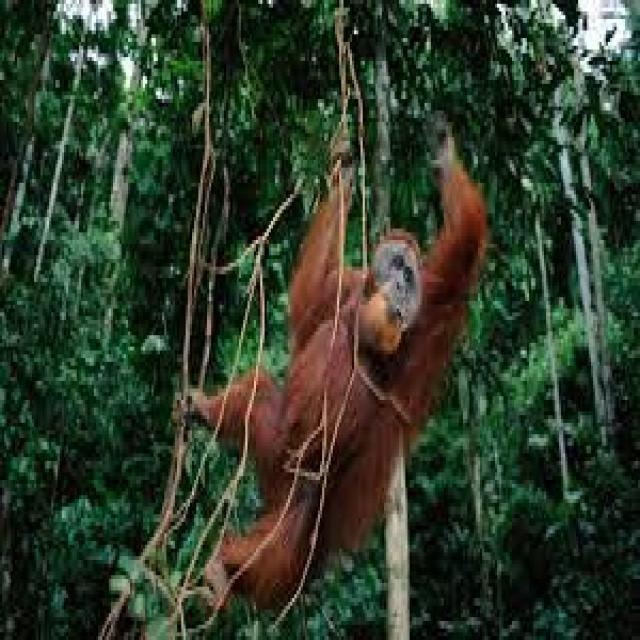Orangutan: (184, 116, 492, 604)
